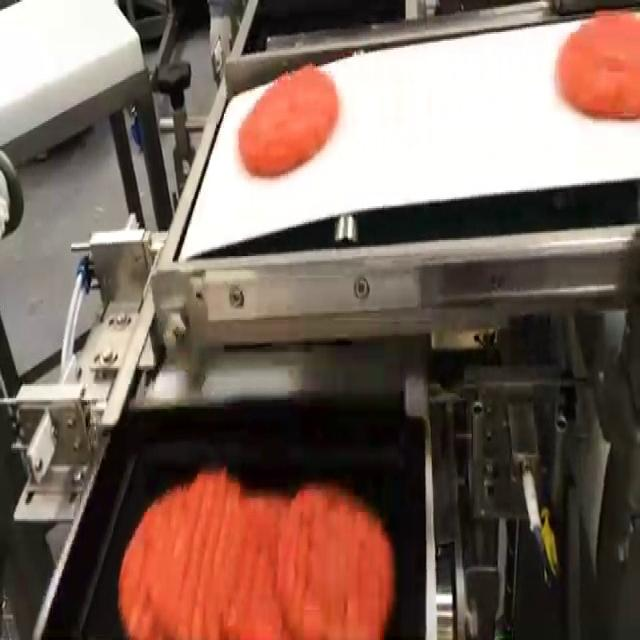4-hamburguer: (118, 469, 394, 638)
hamburguer: (238, 64, 338, 176)
